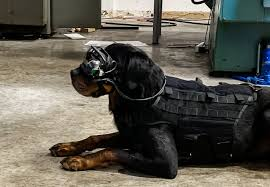dog: (50, 31, 171, 119)
